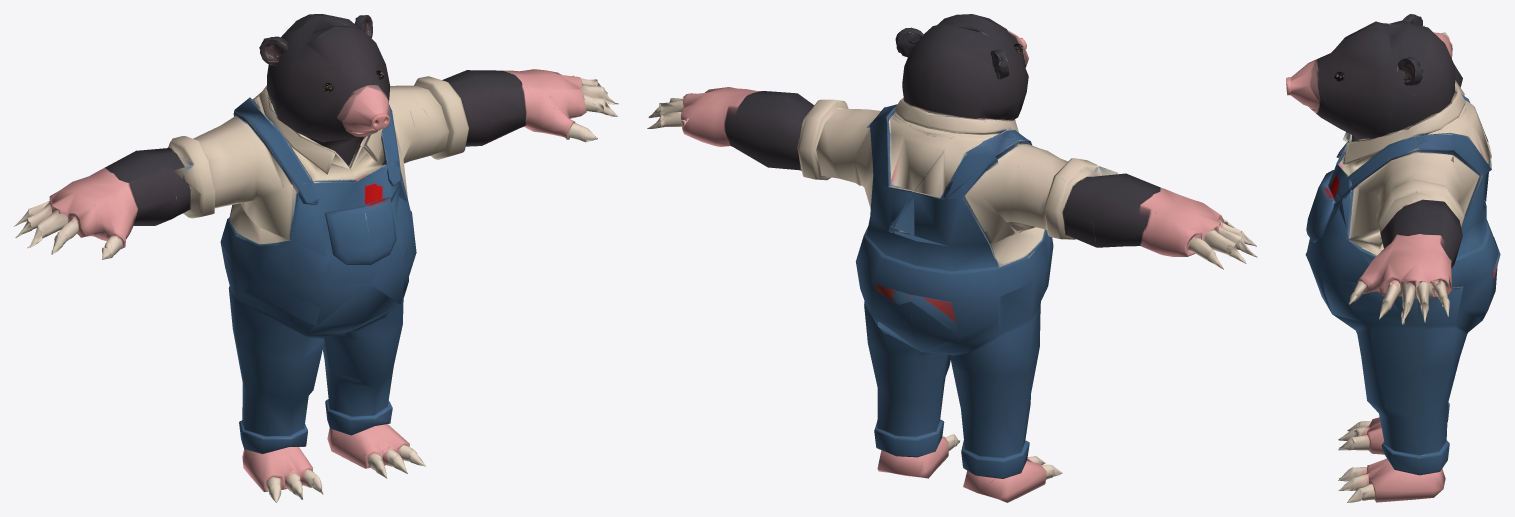
File: mole_parts.glb
3 renders of one model, left to right at view 1: azimuth 30°, elevation 25°; view 2: azimuth 150°, elevation 25°; view 3: azimuth 270°, elevation 25°, orthographic. The views are drawn at different scales.
Bounding box in the file's own units: 0.9507 × 0.687 × 0.3008.
Materials: 1 (1 with a texture image).
